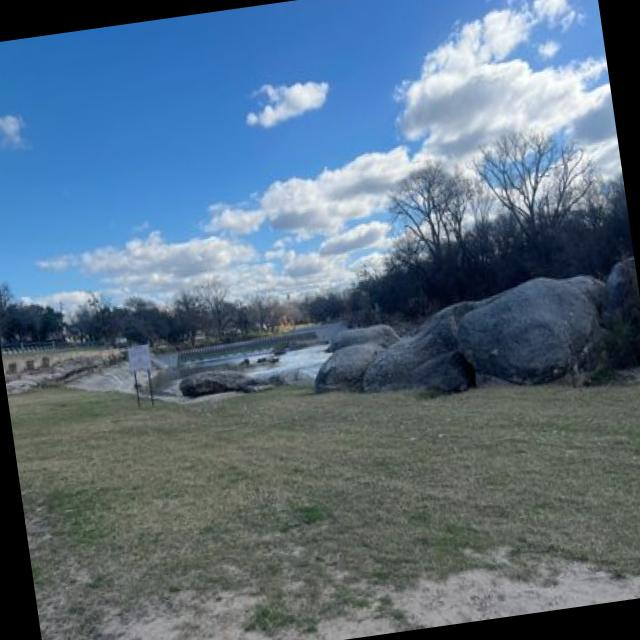grass: (8, 383, 640, 640)
stone: (458, 275, 606, 383), (364, 302, 476, 389), (602, 260, 640, 368), (316, 344, 384, 389)
white-sand: (106, 562, 640, 640)
